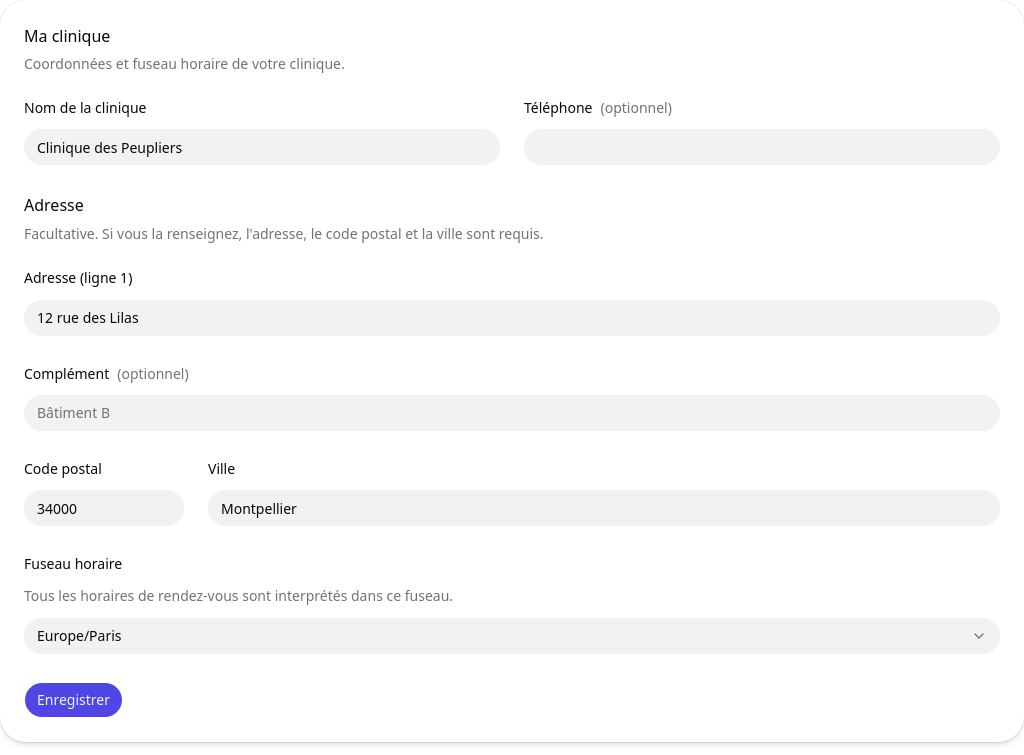
ClinicForm — validation locale › impose un code postal à cinq chiffres
Replace the text in the field labelled "Code postal" with "340" at (104, 508), box 24,490 -> 184,526
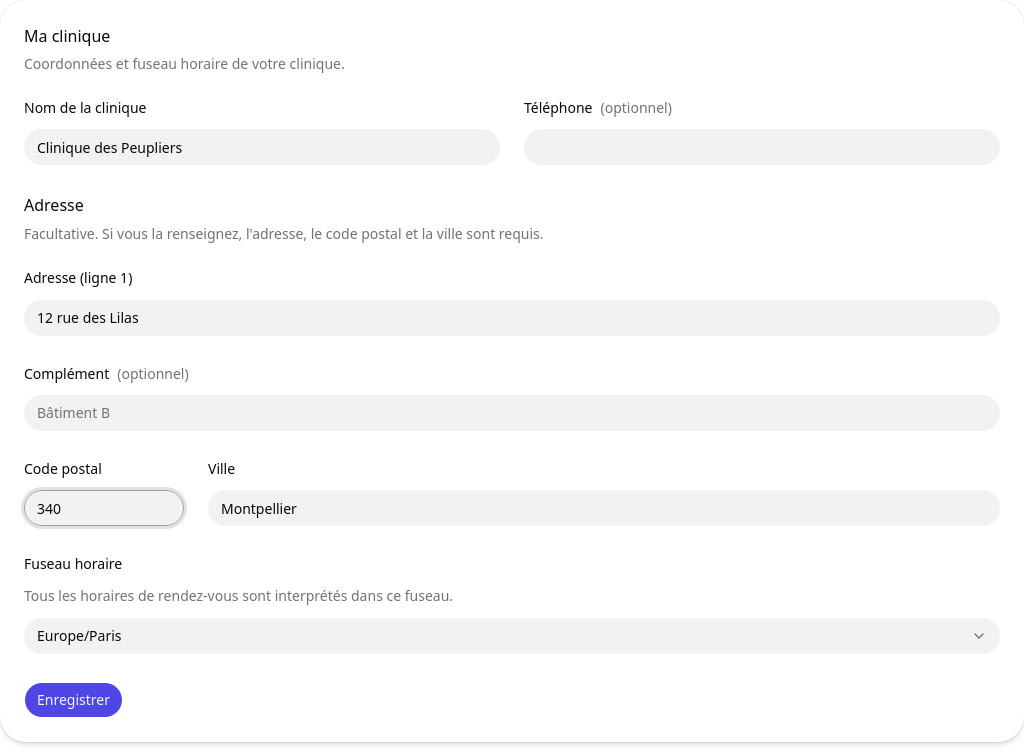
Click the button "Enregistrer" at (74, 700), box 24,682 -> 123,718
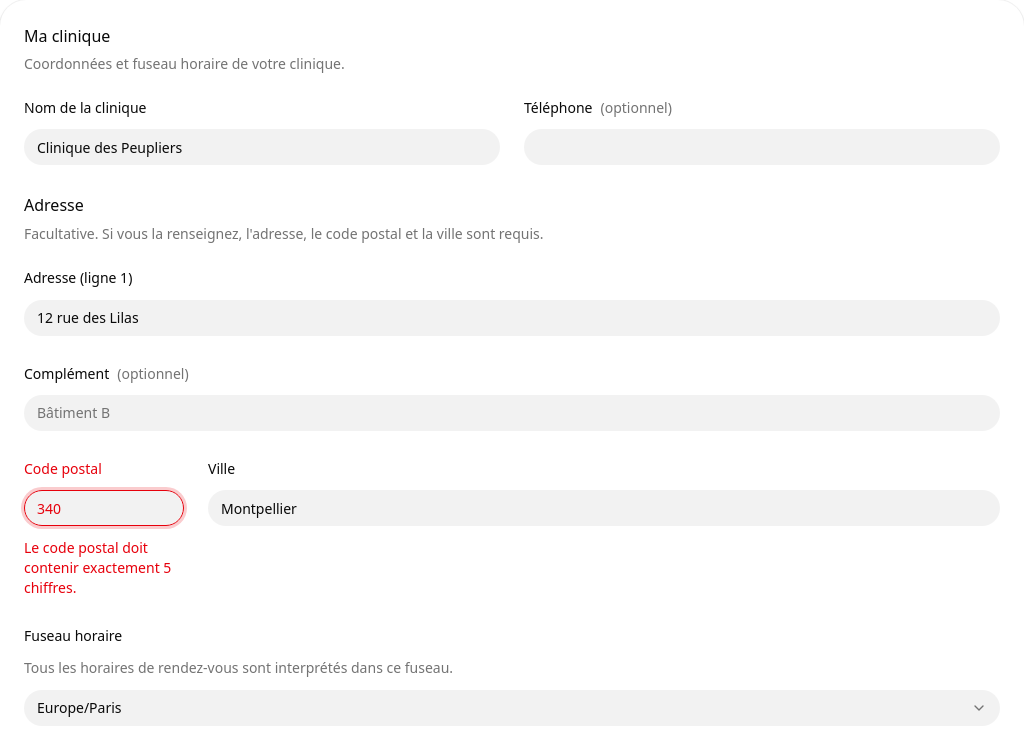
Expected: the text "Le code postal doit contenir exactement 5 chiffres." is shown, 24,538 -> 184,598
